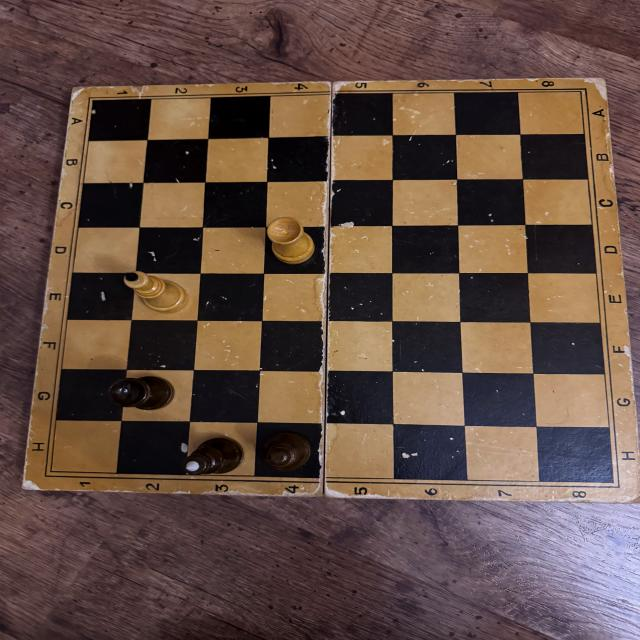black-king: (182, 438, 244, 475)
black-pawn: (259, 430, 315, 473)
black-rook: (106, 375, 175, 412)
white-king: (123, 269, 190, 314)
white-rook: (266, 215, 316, 266)
